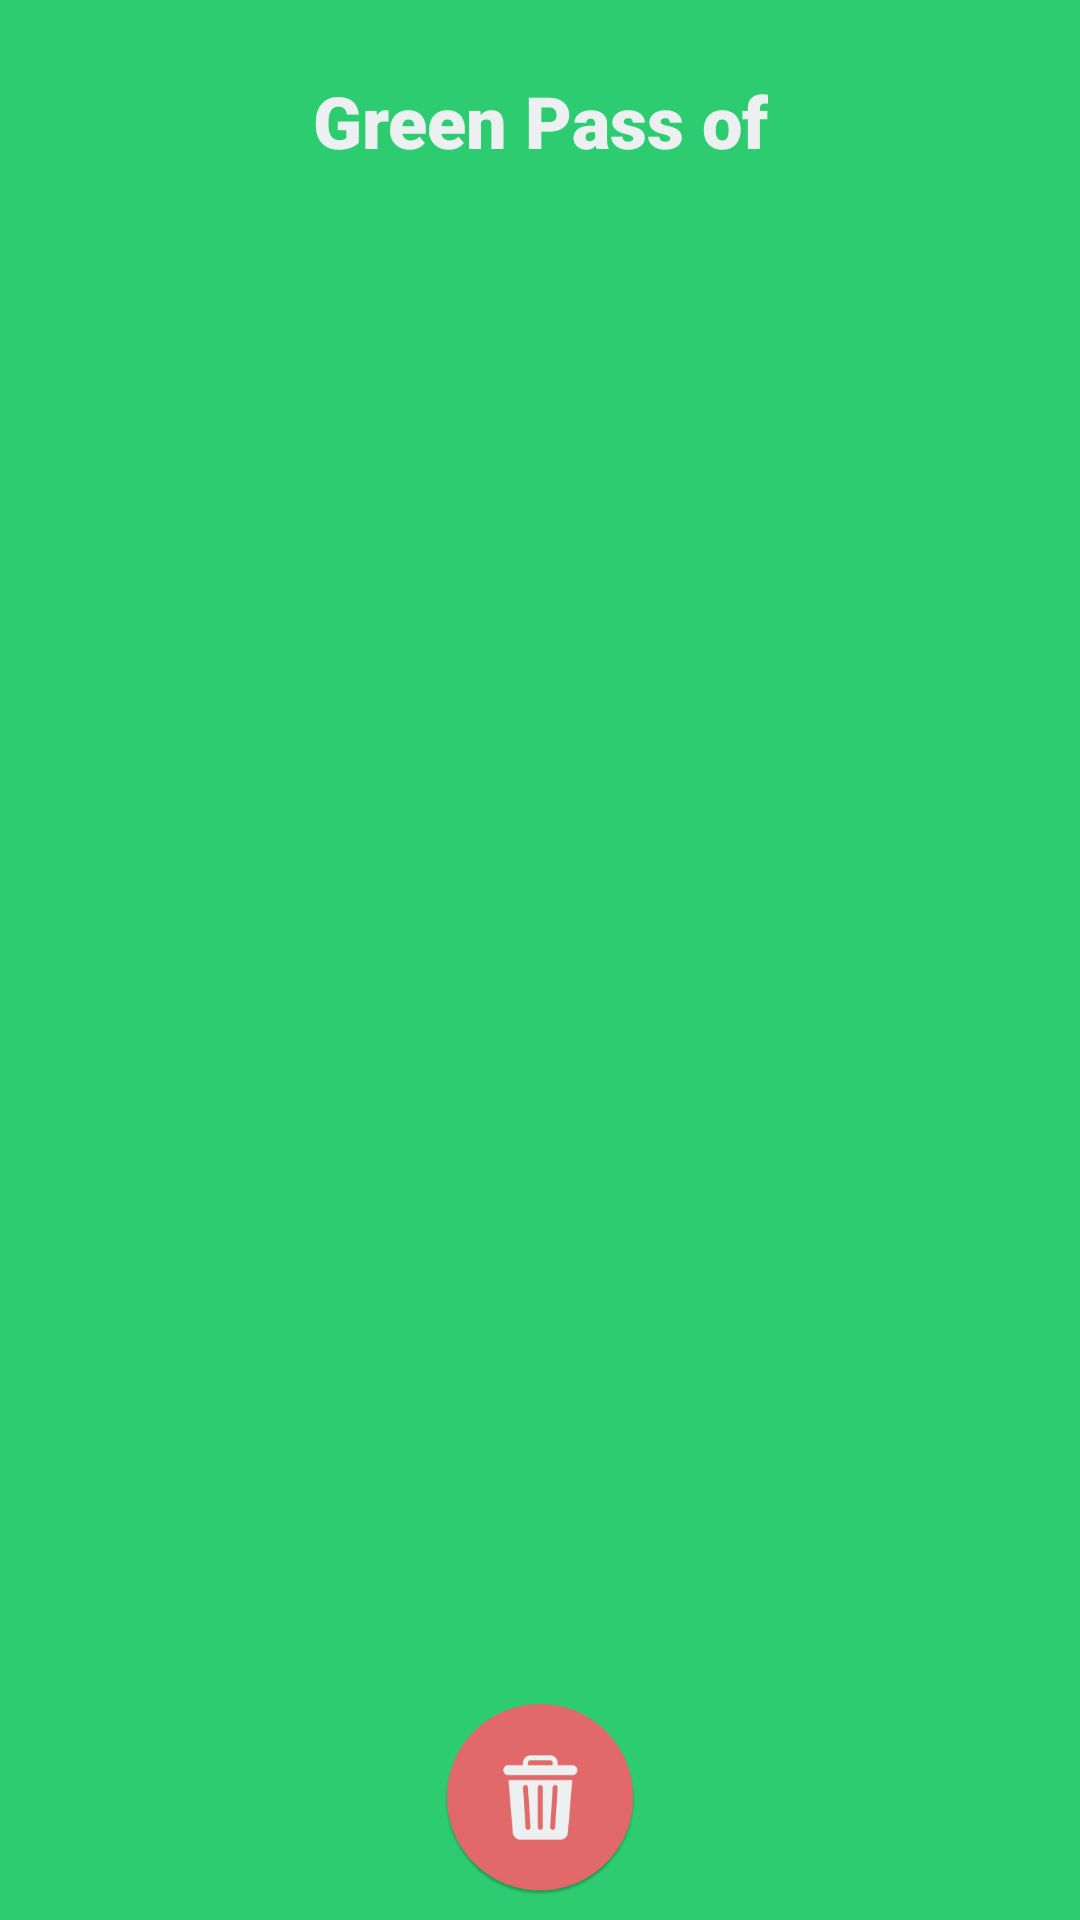

Point at icon controls on the screen. Image size 1080 × 1920, points as (x=x, y=y).
delete: (x=540, y=1798)
